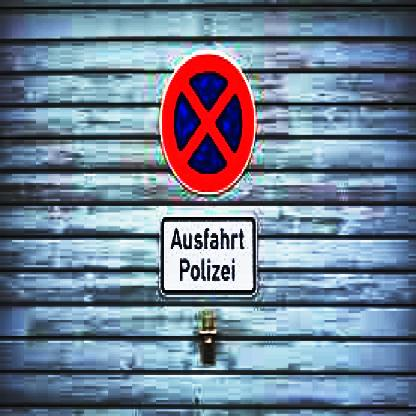No stopping: (158, 48, 255, 197)
